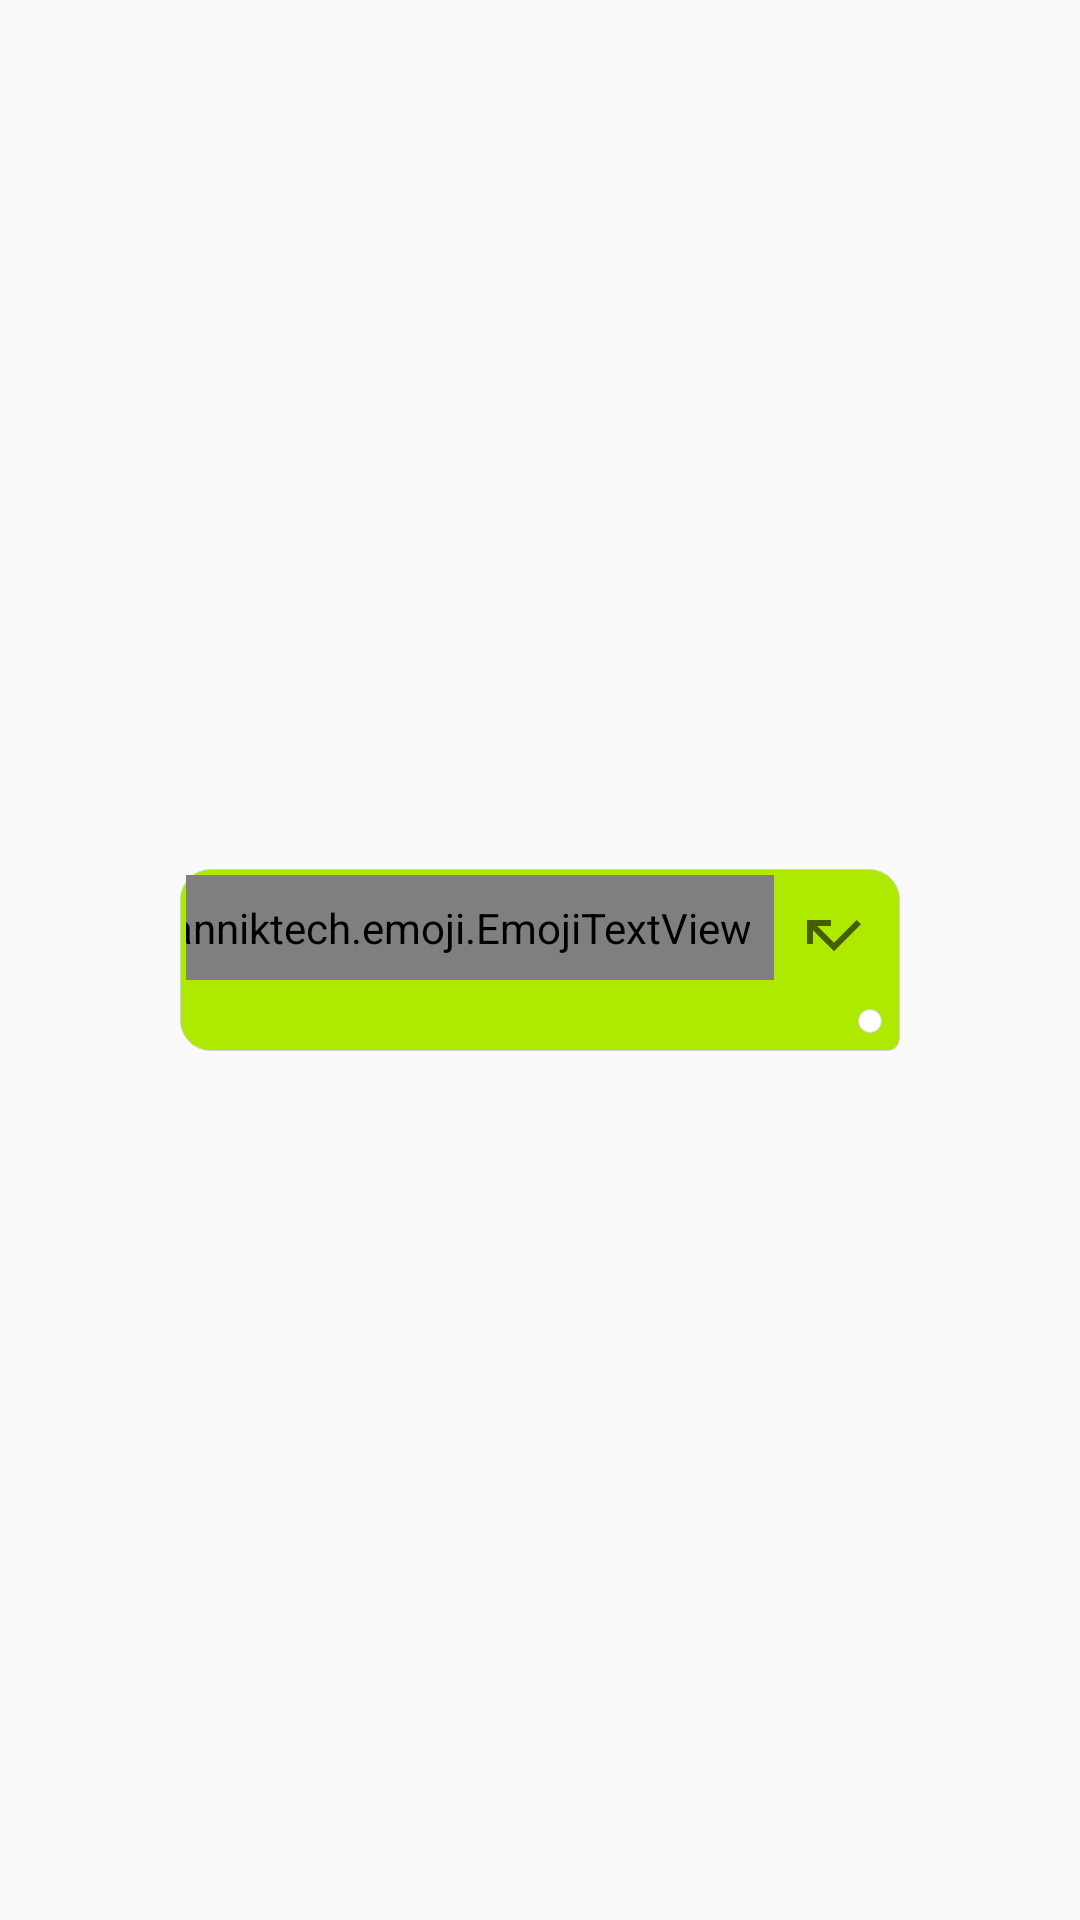

Icons on this 1080x1920 Android screen, each with the point to tap as point (x, y):
call missed: point (834, 935)
